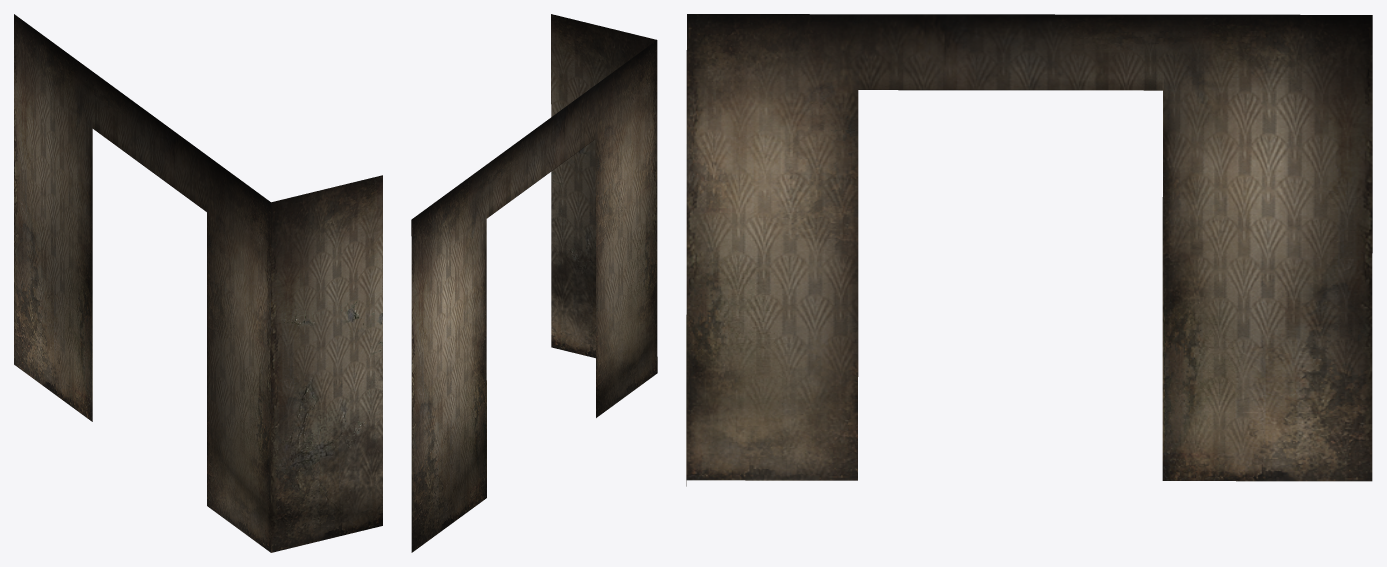
The model's file is Room10.obj.
3 views of the same model, side by side, from view 1: azimuth 30°, elevation 25°; view 2: azimuth 150°, elevation 25°; view 3: azimuth 270°, elevation 25° (orthographic). The views are drawn at different scales.
Parts seen in each view (by area): view 1: Room10; view 2: Room10; view 3: Room10.
Part boxes in pixels (<box>): Room10: <box>14,14,382,552</box>; Room10: <box>411,14,657,552</box>; Room10: <box>686,14,1372,486</box>.
Bounding box in the file's own units: 8.44 × 25.33 × 33.73.
